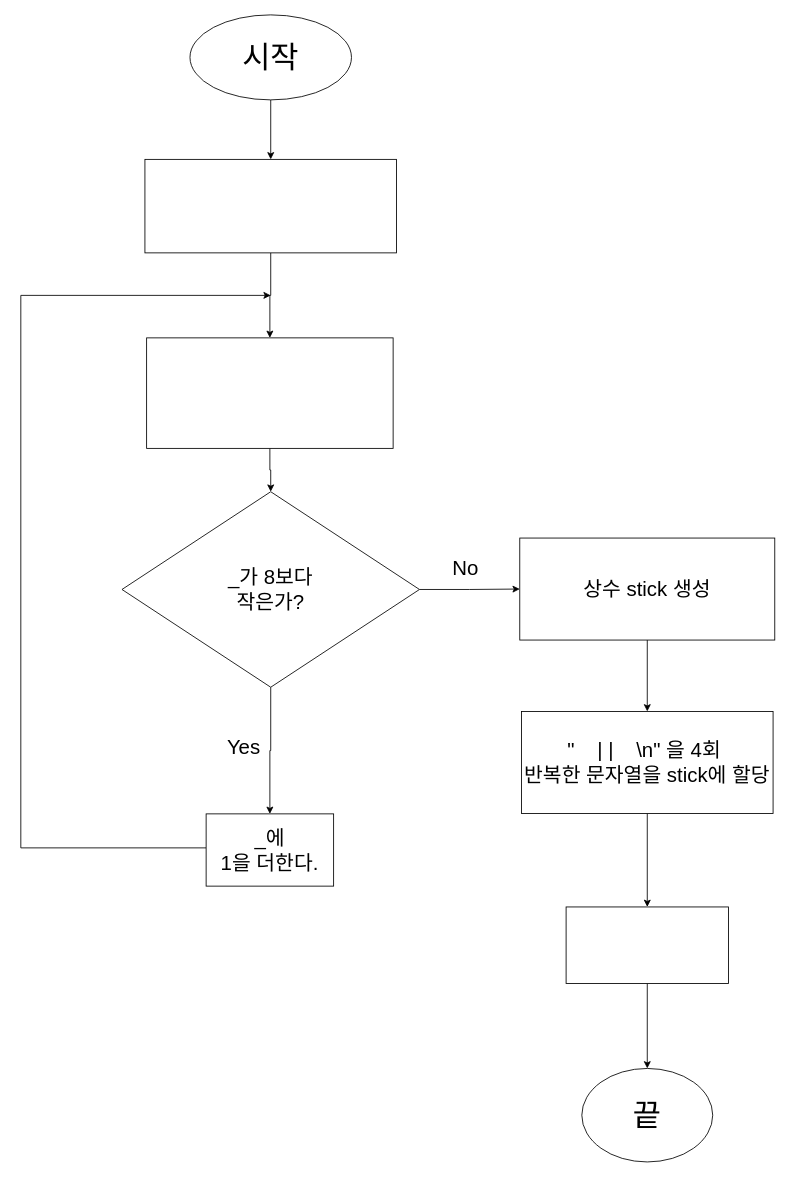
Some shapes in this 790 by 1177 pixel diagram are drawn without their labels. The shapes that lost their labels are listed below. From the top down, each one's centre as x and y in pixels, then its label:
pixel 270 206: height: 8
pixel 269 392: "***********" 출력
pixel 646 944: stick 출력
